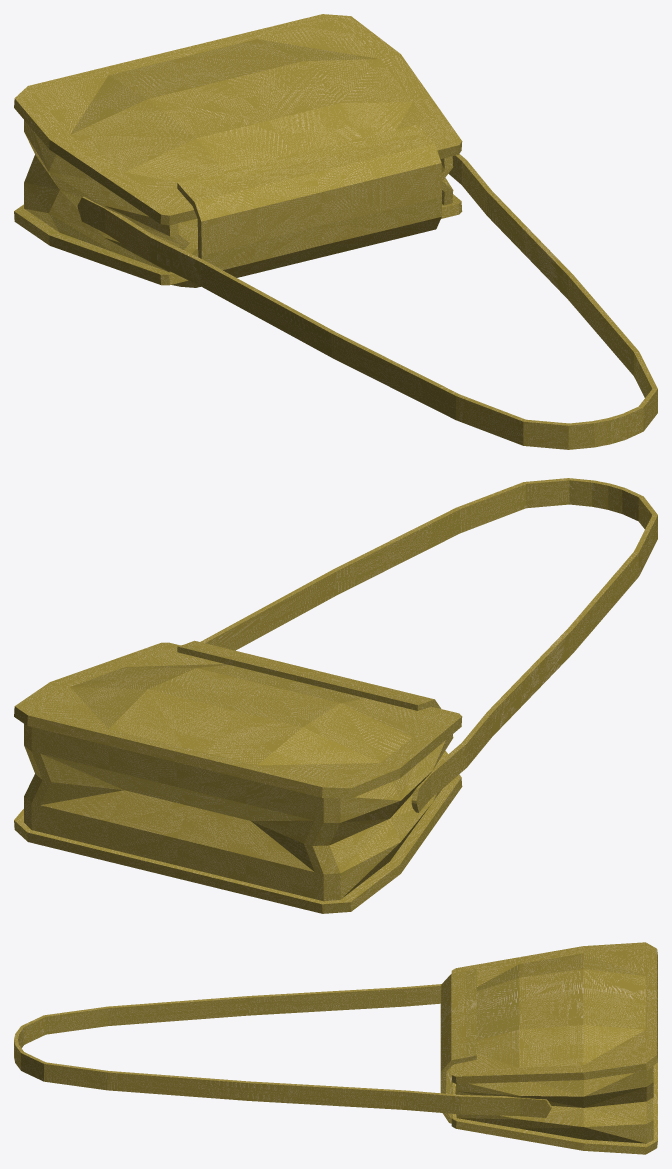
The picture shows the model from 3 angles, top to bottom: view 1: azimuth 30°, elevation 25°; view 2: azimuth 150°, elevation 25°; view 3: azimuth 270°, elevation 25°; orthographic projection. The views are drawn at different scales.
Parts seen in each view (by area): view 1: bag; view 2: bag; view 3: bag.
Part boxes in pixels (box(x1,y1,x2,y2)): bag: box(14, 14, 657, 449); bag: box(14, 478, 657, 913); bag: box(14, 942, 657, 1154).
Size of the model in its own units: 0.8493 by 0.3256 by 1.82.
